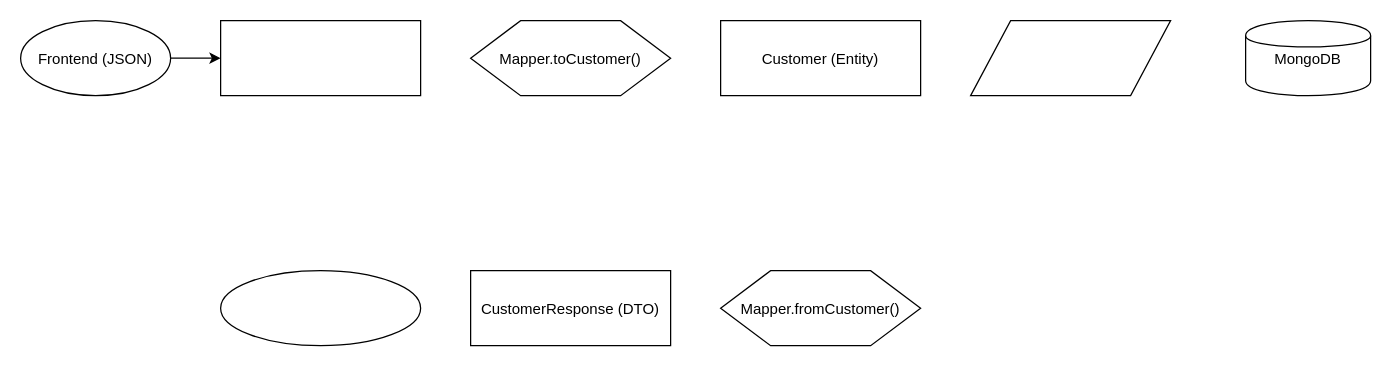
Some shapes in this 1391 by 366 pixel diagram are drawn without their labels. Here are the shapes that lost their labels. From the top down, the box of each, then its label:
(219, 19, 421, 96): CustomerRequest (DTO)
(969, 19, 1171, 96): Repository.save()
(219, 269, 421, 346): API Response (JSON)
